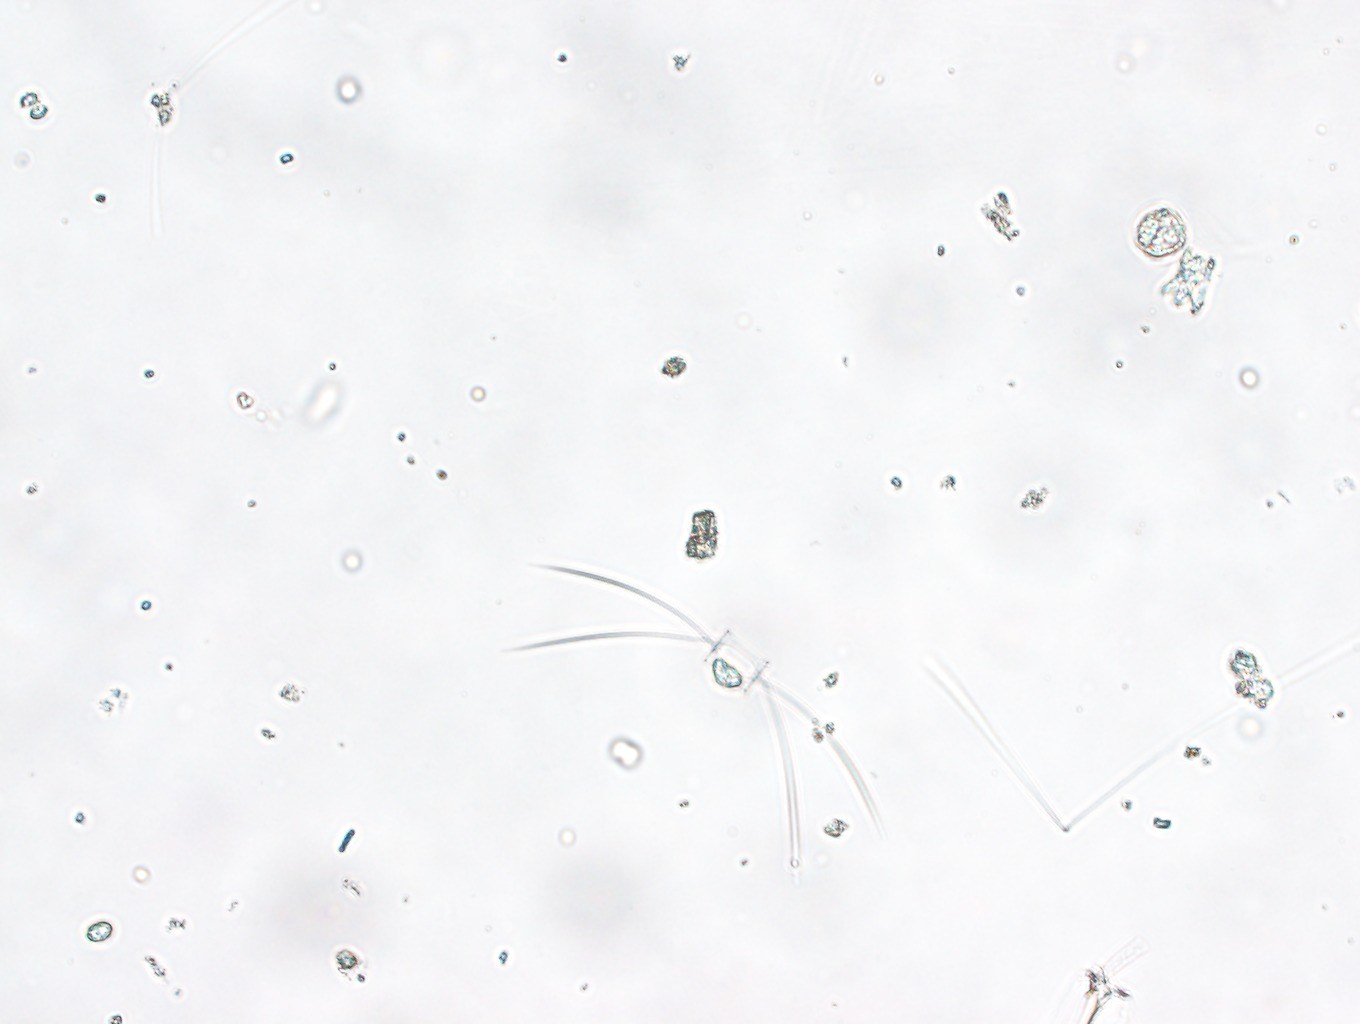chaetoceros: (514, 551, 898, 872)
